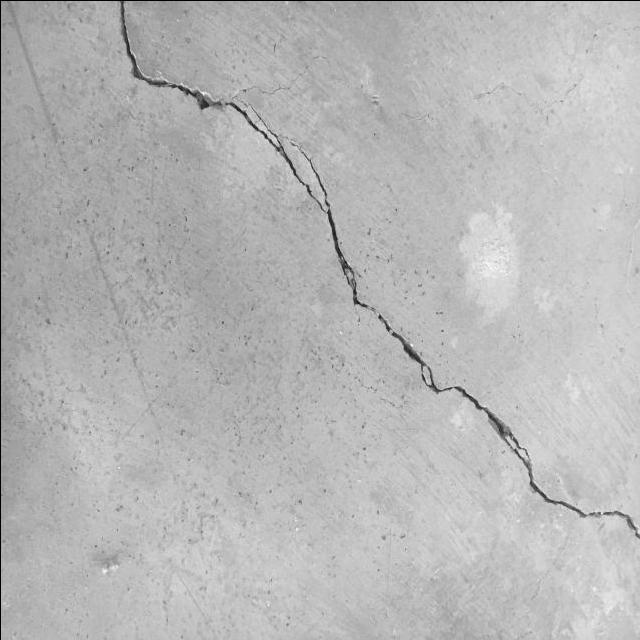SurfaceCrack: (61, 0, 640, 640)
